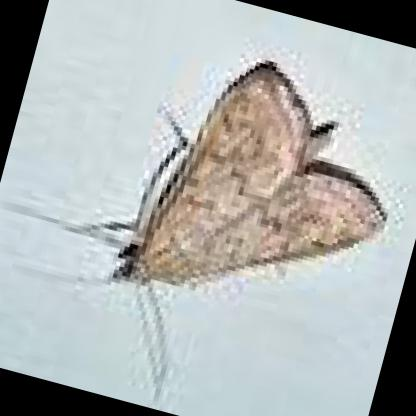Leaf Webber: (91, 51, 399, 292)
